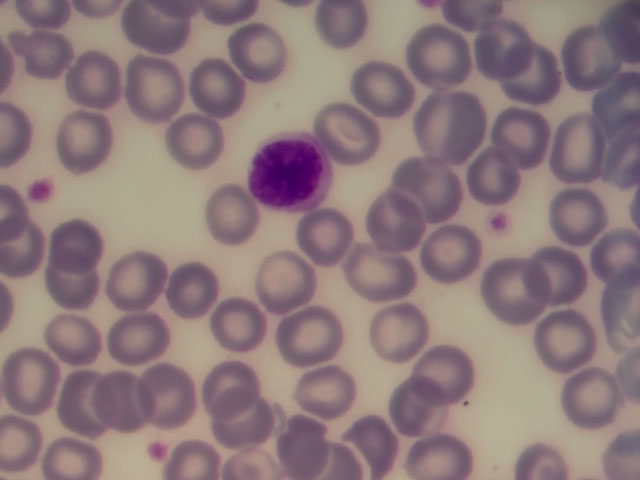Platelets: (144, 438, 171, 468), (26, 177, 56, 202), (488, 209, 507, 233)
RBC: (17, 25, 75, 85), (67, 50, 125, 110), (61, 110, 119, 170), (127, 58, 185, 118), (167, 113, 225, 173), (186, 57, 244, 117), (229, 23, 287, 83), (317, 101, 375, 161), (353, 58, 411, 118), (319, 2, 377, 62), (125, 1, 183, 61), (412, 28, 470, 88), (420, 93, 478, 153), (469, 137, 527, 197), (489, 105, 547, 165), (507, 50, 565, 110), (475, 19, 533, 79), (564, 26, 622, 86), (552, 117, 610, 177), (553, 181, 611, 241), (530, 242, 588, 302), (485, 261, 543, 321), (427, 227, 485, 287), (366, 192, 424, 252), (394, 147, 452, 207), (304, 204, 362, 264), (251, 249, 309, 309), (198, 183, 256, 243), (167, 260, 225, 320), (214, 292, 272, 352), (105, 254, 163, 314), (42, 255, 100, 315), (49, 216, 107, 276), (100, 303, 158, 363), (42, 310, 100, 370), (2, 341, 60, 401), (52, 368, 110, 428), (98, 372, 156, 432), (141, 363, 199, 423), (193, 355, 251, 415), (203, 382, 261, 442), (264, 403, 322, 463), (300, 360, 358, 420), (284, 303, 342, 363), (370, 303, 428, 363), (352, 245, 410, 305), (419, 341, 477, 401), (389, 386, 447, 446), (408, 420, 466, 480), (533, 313, 591, 373), (557, 367, 615, 427), (41, 420, 99, 480), (1, 417, 48, 473)
WBC: (248, 129, 332, 220)
